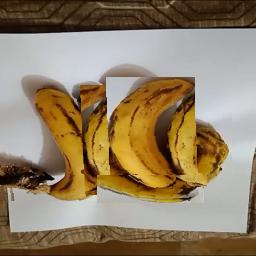Banana Semifresh: (5, 86, 105, 201), (106, 77, 195, 193), (80, 85, 139, 193), (184, 113, 232, 189), (98, 175, 205, 203)
